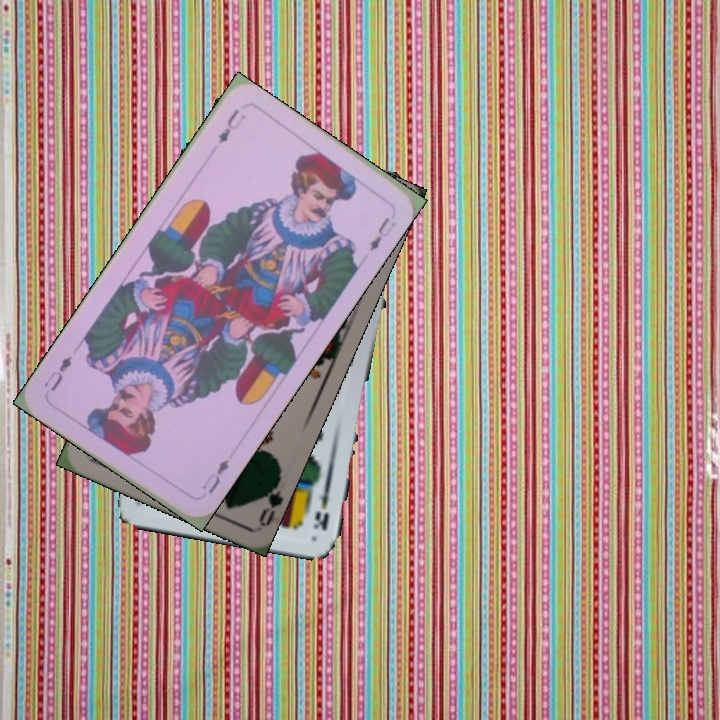EK: (310, 476, 334, 534)
EU: (197, 454, 232, 497), (214, 105, 248, 147)
GO: (251, 470, 284, 528)
